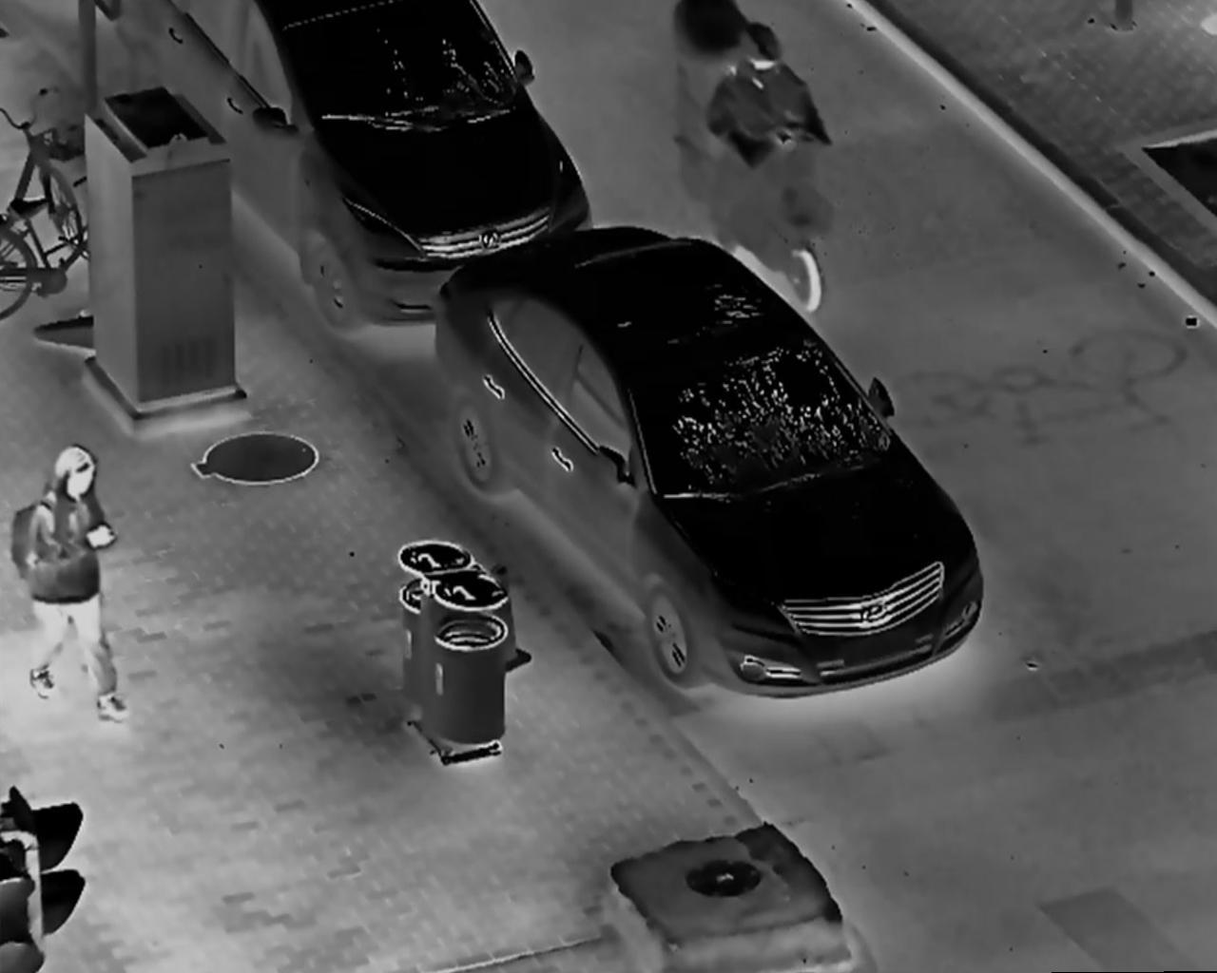person: (10, 442, 133, 723), (706, 24, 833, 241)
